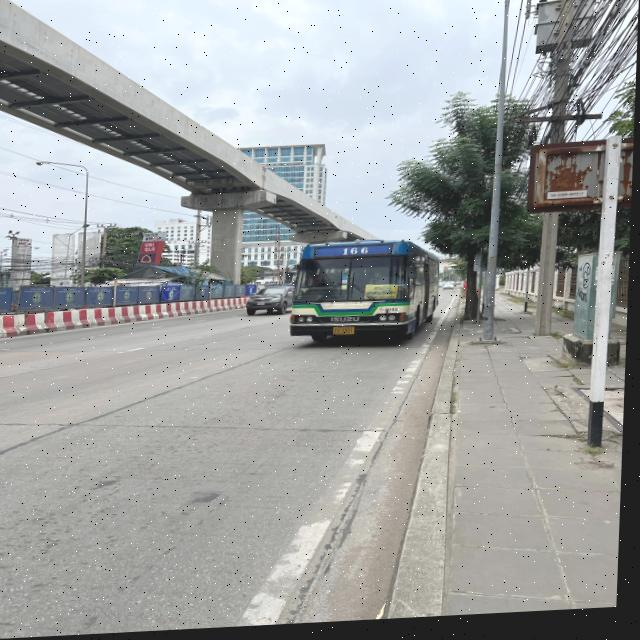BMTA-bus: (290, 237, 445, 352)
Bus-Line-Number: (342, 249, 372, 261)
Destination-Sign-Normal-Expressway: (368, 288, 400, 306)
